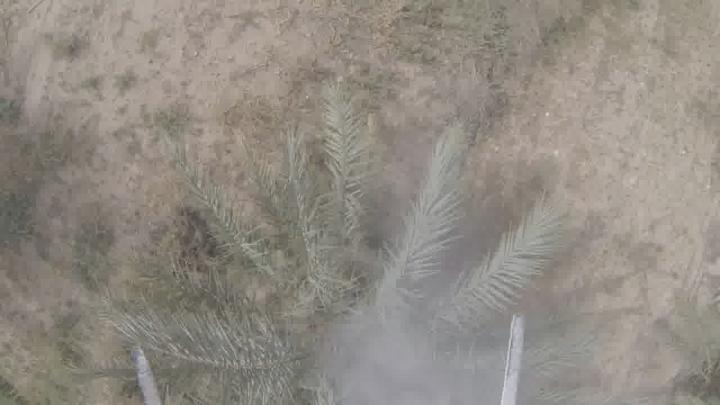Date-Palm-Crown: (227, 202, 518, 404)
